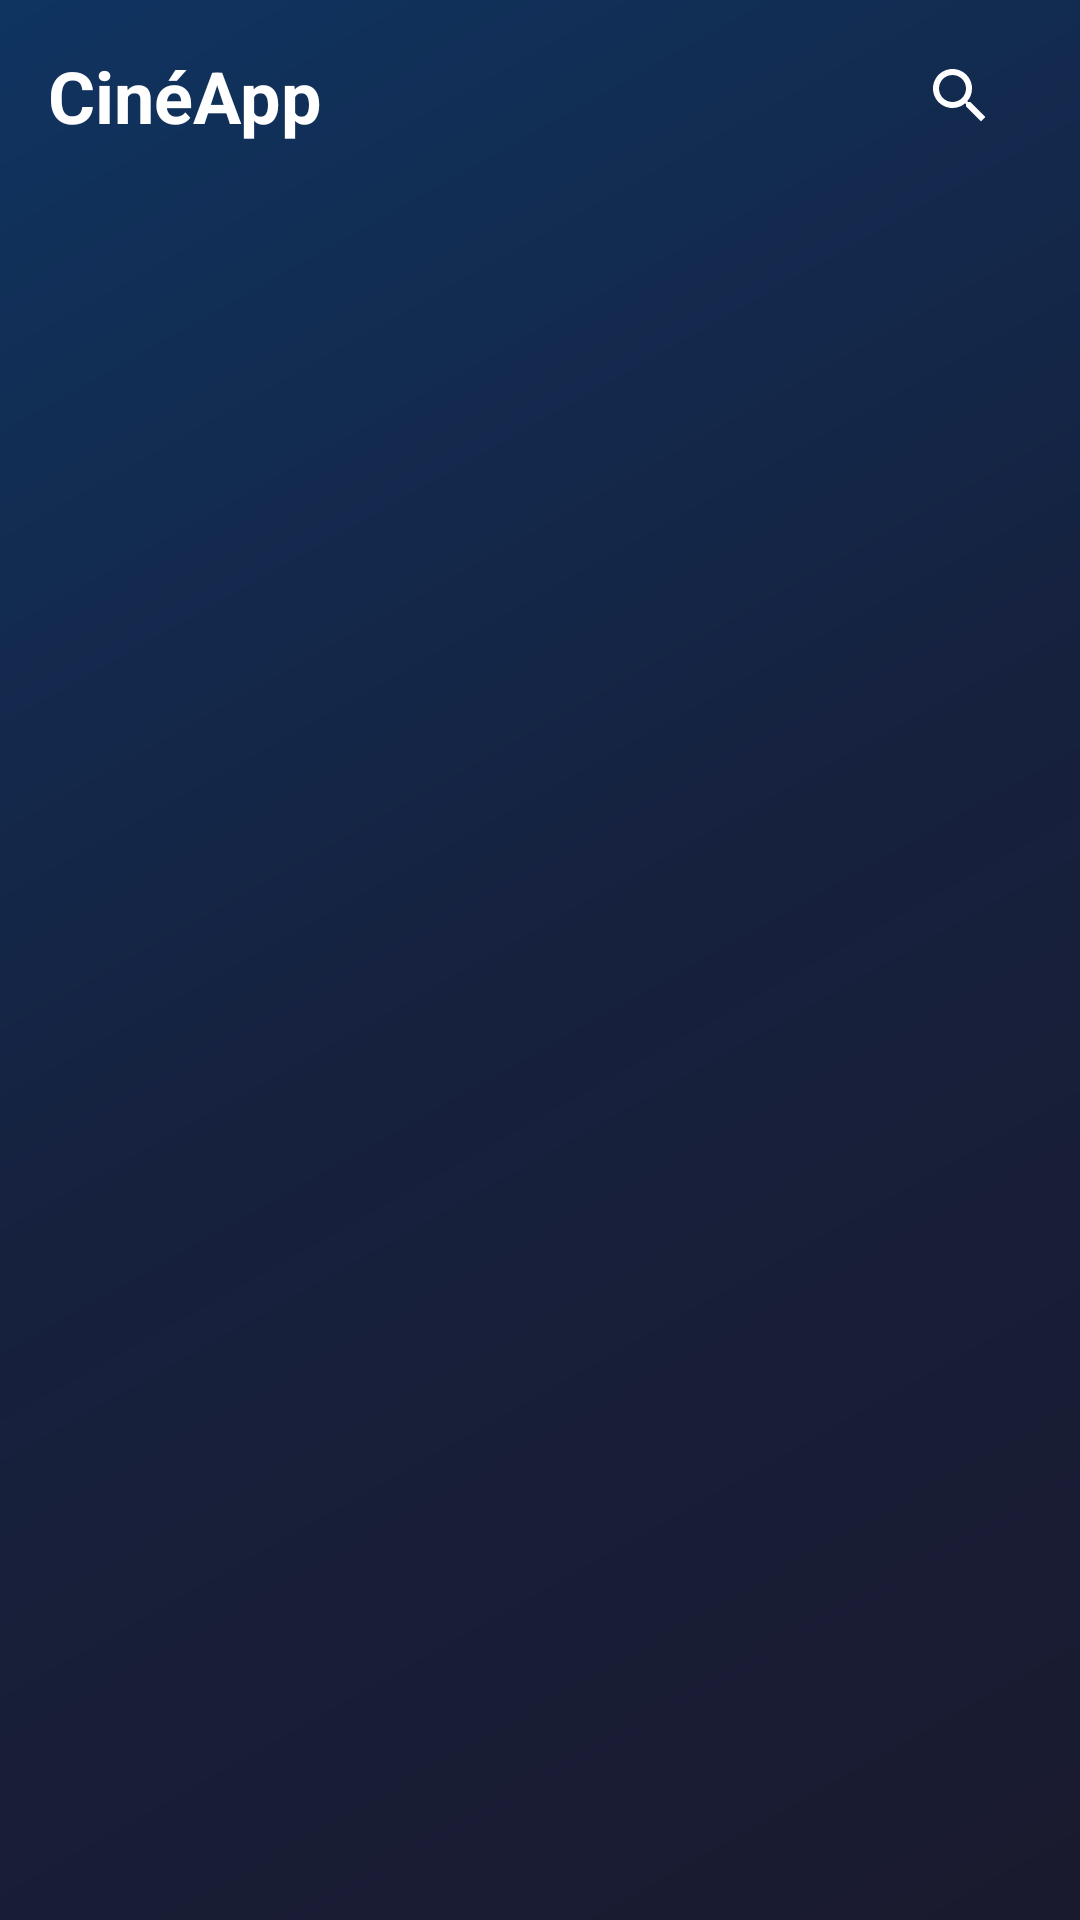

Point at icon controls on the screen. Image size 1080×1920, points as [x,y].
Rechercher: [959,95]
